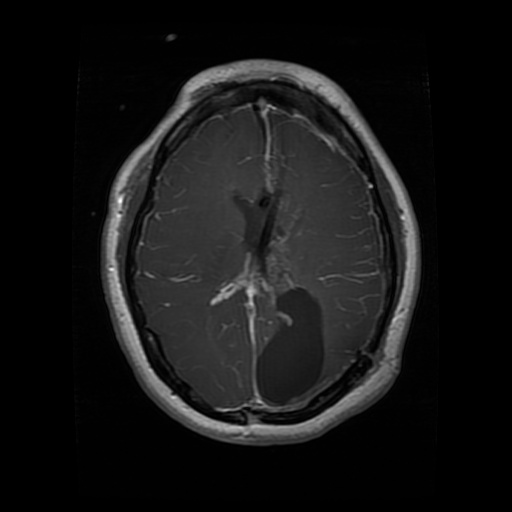glioma: (208, 177, 325, 406)
